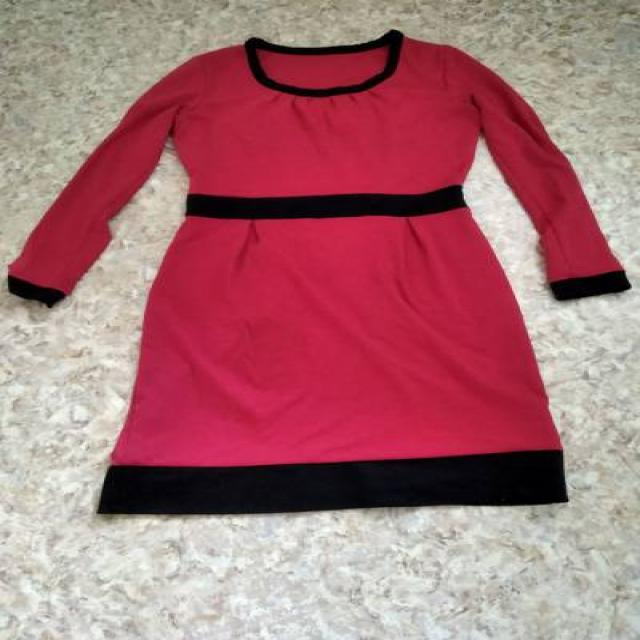Clothes -Biodegradable-: (4, 30, 632, 520)
